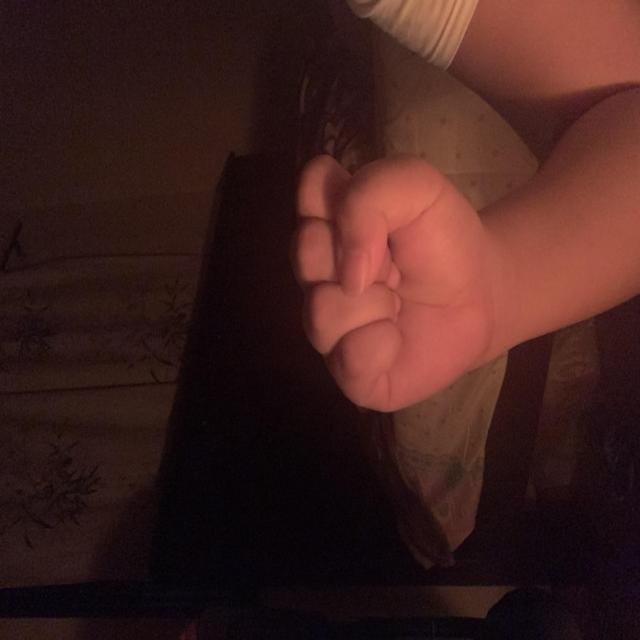S: (150, 286, 416, 495)
